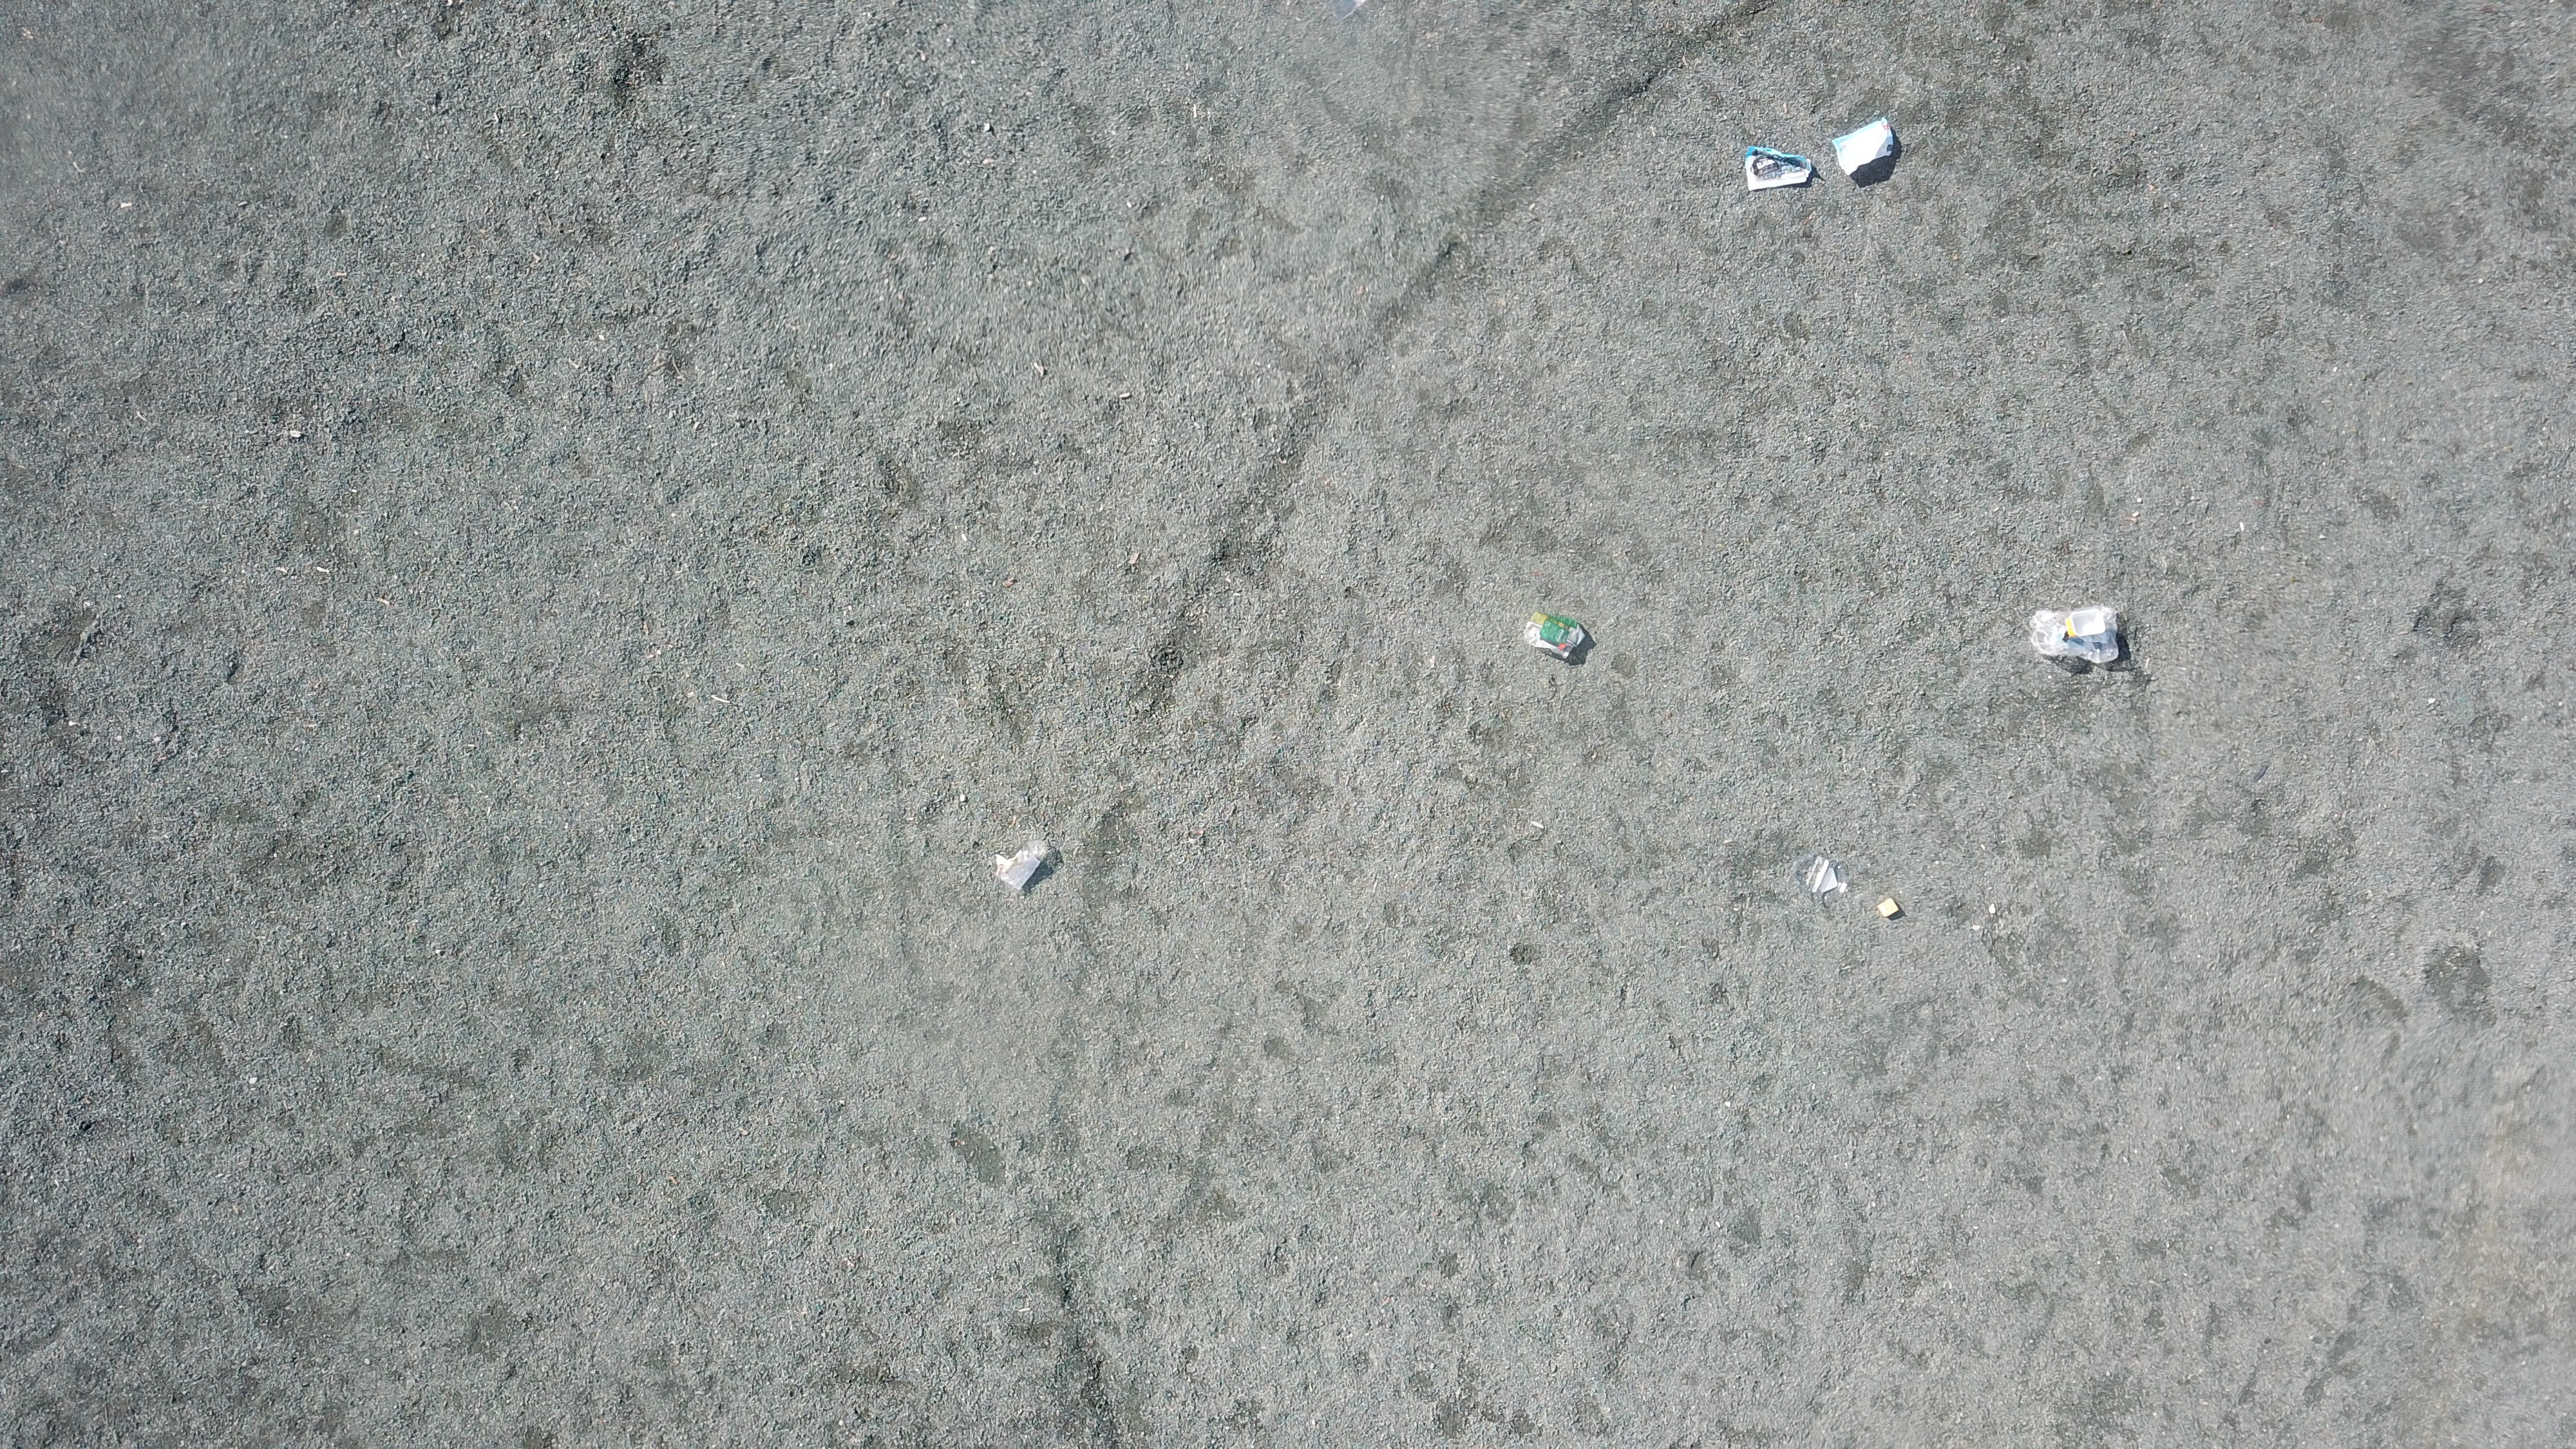Plastic: (2031, 607, 2120, 665), (1833, 117, 1898, 175), (1744, 147, 1815, 191), (1798, 853, 1858, 902), (1523, 610, 1587, 656), (994, 839, 1046, 888), (1879, 897, 1900, 920)
